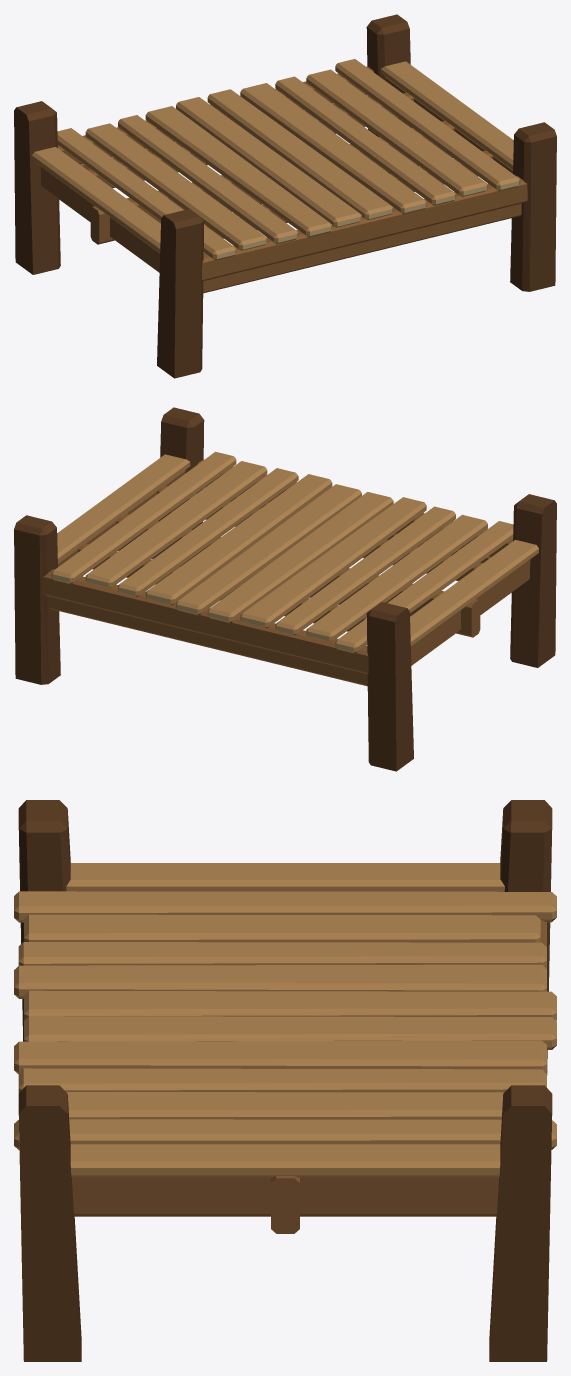
Rendered from pier_section.glb.
The picture shows the model from 3 angles, top to bottom: view 1: azimuth 30°, elevation 25°; view 2: azimuth 150°, elevation 25°; view 3: azimuth 270°, elevation 25°; orthographic projection. The views are drawn at different scales.
Visible parts, largest first — view 1: pier-deck-section; view 2: pier-deck-section; view 3: pier-deck-section.
Part boxes in pixels (x1=…): pier-deck-section: x1=14, y1=14, x2=556, y2=378; pier-deck-section: x1=14, y1=407, x2=556, y2=771; pier-deck-section: x1=14, y1=800, x2=556, y2=1361.
Size of the model in its own units: 4 by 1.56 by 3.
